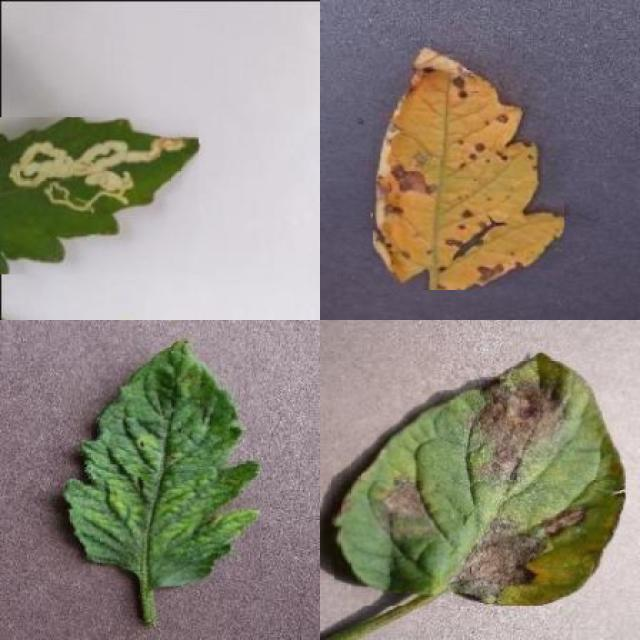Late Blight: (334, 351, 626, 606)
Leaf Miner: (0, 117, 199, 274)
Mosaic Virus: (63, 337, 263, 589)
Septoria: (374, 47, 565, 290)
